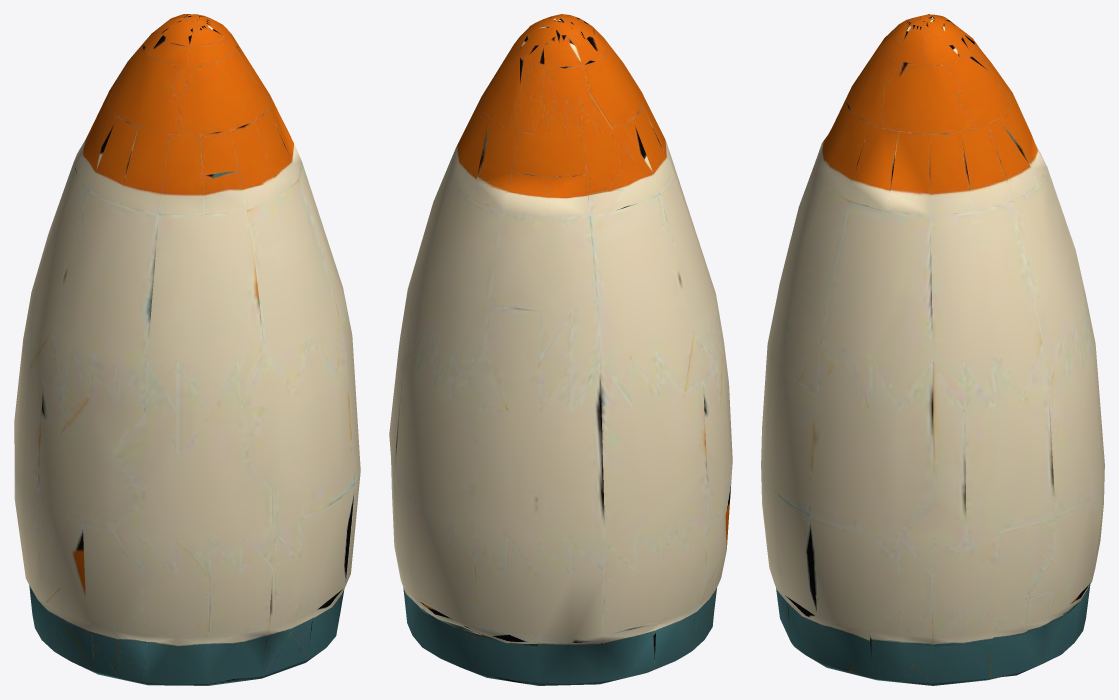
The model's file is rocket_nose-lod1.8e9141f07fec.glb.
The picture shows the model from 3 angles, left to right: view 1: azimuth 30°, elevation 25°; view 2: azimuth 150°, elevation 25°; view 3: azimuth 270°, elevation 25°; orthographic projection.
Visible parts, largest first — view 1: geometry_0; view 2: geometry_0; view 3: geometry_0.
Boxes of the visible parts, left/top/right/bottom form: geometry_0: left=14, top=14, right=360, bottom=685; geometry_0: left=389, top=14, right=732, bottom=685; geometry_0: left=761, top=14, right=1104, bottom=685.
Bounding box in the file's own units: 0.4878 × 0.9507 × 0.4878.
Materials: 1 (1 with a texture image).
